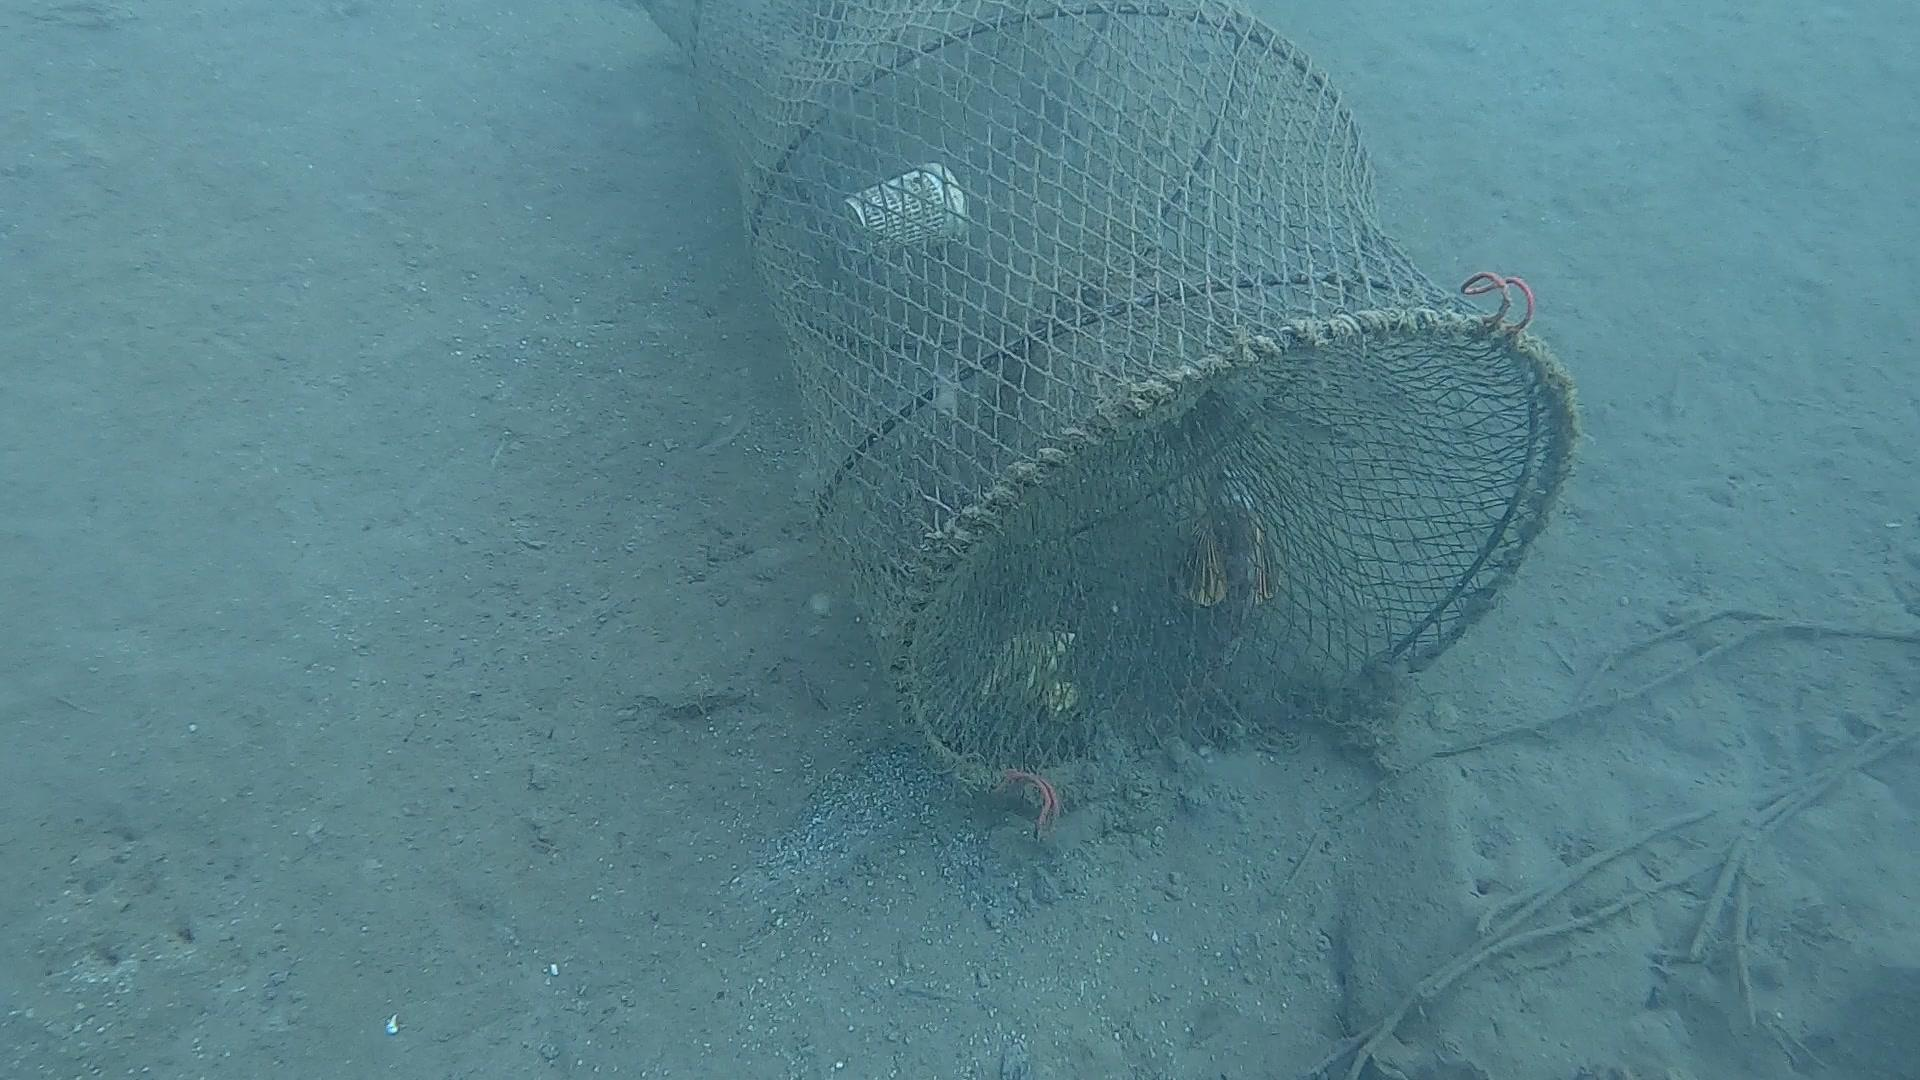spring fish trap: (636, 0, 1578, 804)
